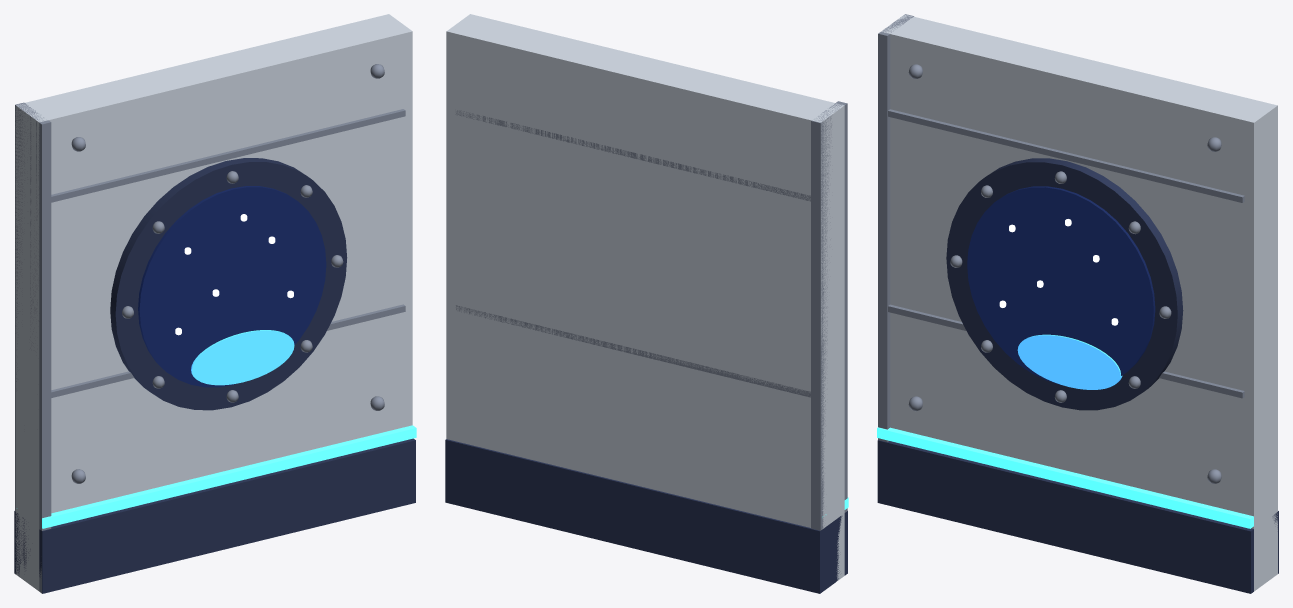
The model's file is space_wall_porthole.glb.
The picture shows the model from 3 angles, left to right: view 1: azimuth 30°, elevation 25°; view 2: azimuth 150°, elevation 25°; view 3: azimuth 330°, elevation 25°; orthographic projection.
Bounding box in the file's own units: 2 × 2.4 × 0.3256.
